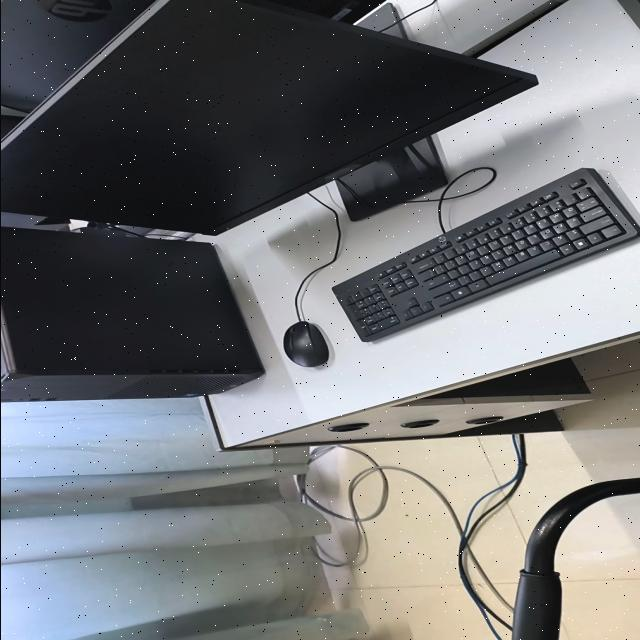Chair: (511, 478, 640, 640)
Cpu: (0, 227, 262, 402)
Keyboard: (331, 168, 640, 342)
Monitor: (0, 0, 536, 235), (0, 0, 155, 113)
Mouse: (283, 321, 328, 367), (608, 485, 624, 496), (539, 608, 547, 617), (610, 482, 620, 484)
